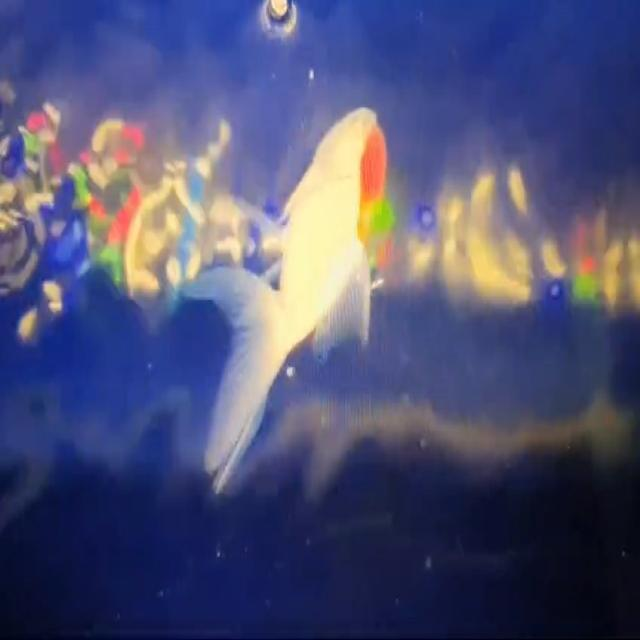fish: (203, 95, 388, 491)
